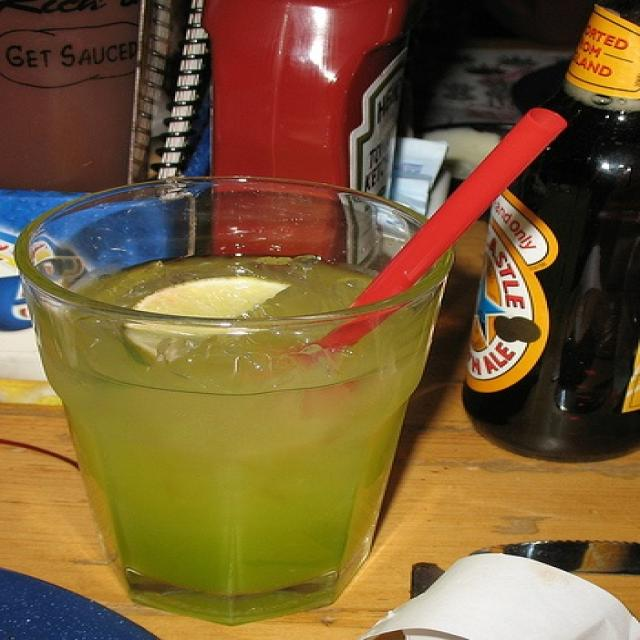bottle: (459, 2, 639, 467), (204, 4, 410, 260)
